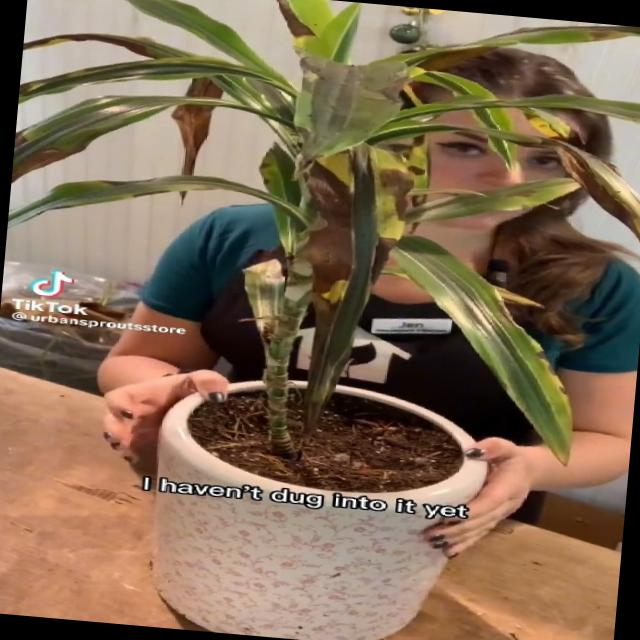lisc_suchy: (410, 120, 640, 247), (11, 96, 197, 183), (7, 174, 268, 229), (18, 59, 271, 103), (401, 25, 640, 71), (124, 0, 265, 69), (296, 169, 359, 310), (22, 34, 210, 63), (173, 77, 224, 181), (371, 148, 419, 250), (273, 0, 348, 56), (510, 106, 589, 153), (429, 95, 511, 119)
roslina_sucha: (7, 0, 640, 464)
